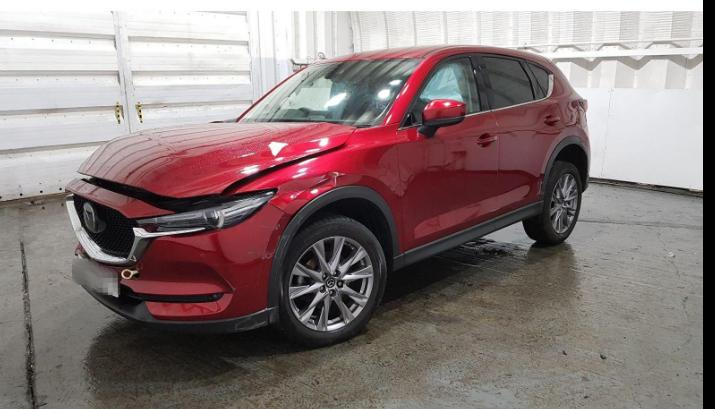Back-bumper: (539, 136, 592, 212)
Back-door: (474, 53, 567, 217)
Back-wheel: (524, 161, 583, 244)
Back-window: (483, 57, 534, 108), (528, 63, 548, 96)
Fender: (225, 122, 404, 254)
Front-bumper: (65, 178, 404, 335)
Front-door: (396, 53, 500, 251)
Front-wheel: (274, 213, 388, 348)
Front-window: (412, 58, 481, 124)
Grille: (72, 194, 140, 257)
Headlight: (135, 189, 275, 231)
Hood: (77, 123, 356, 198)
License-plate: (71, 258, 119, 298)
Mirror: (416, 99, 467, 139)
Quarter-panel: (552, 94, 590, 151)
Rocker-panel: (404, 201, 541, 264)
Roof: (313, 45, 552, 70)
Tail-light: (579, 100, 588, 112)
Windshield: (238, 58, 424, 128)
